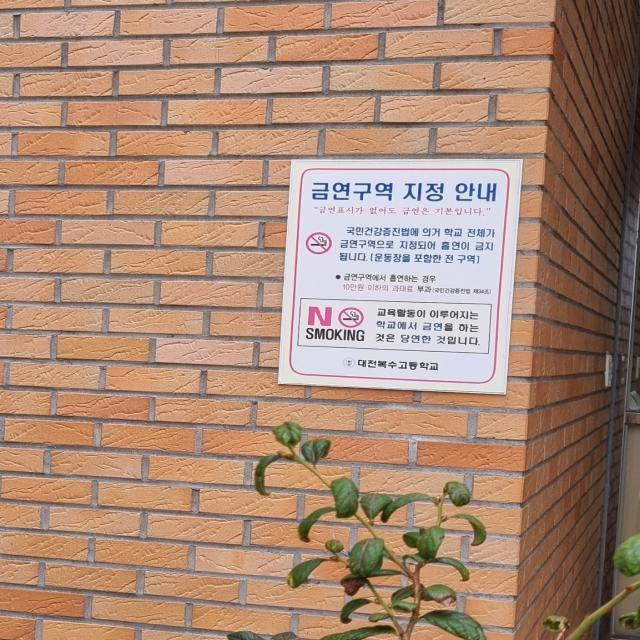logo: (341, 356, 357, 370)
